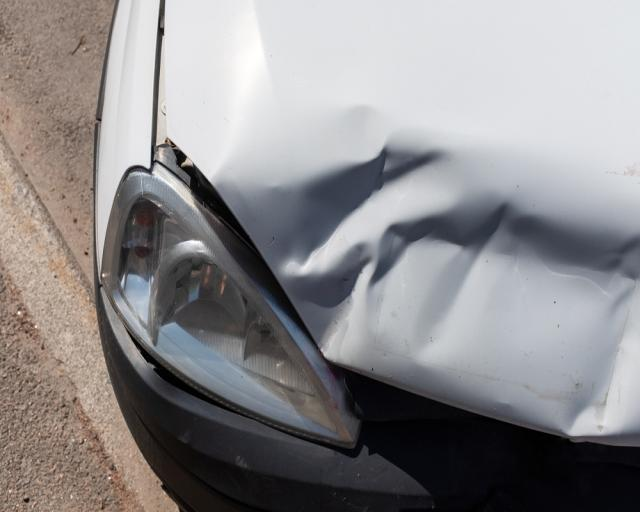dent: (238, 102, 640, 438)
